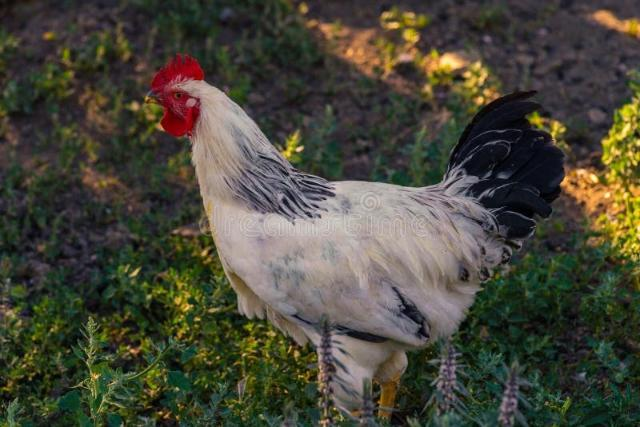Chicken: (145, 54, 563, 421)
